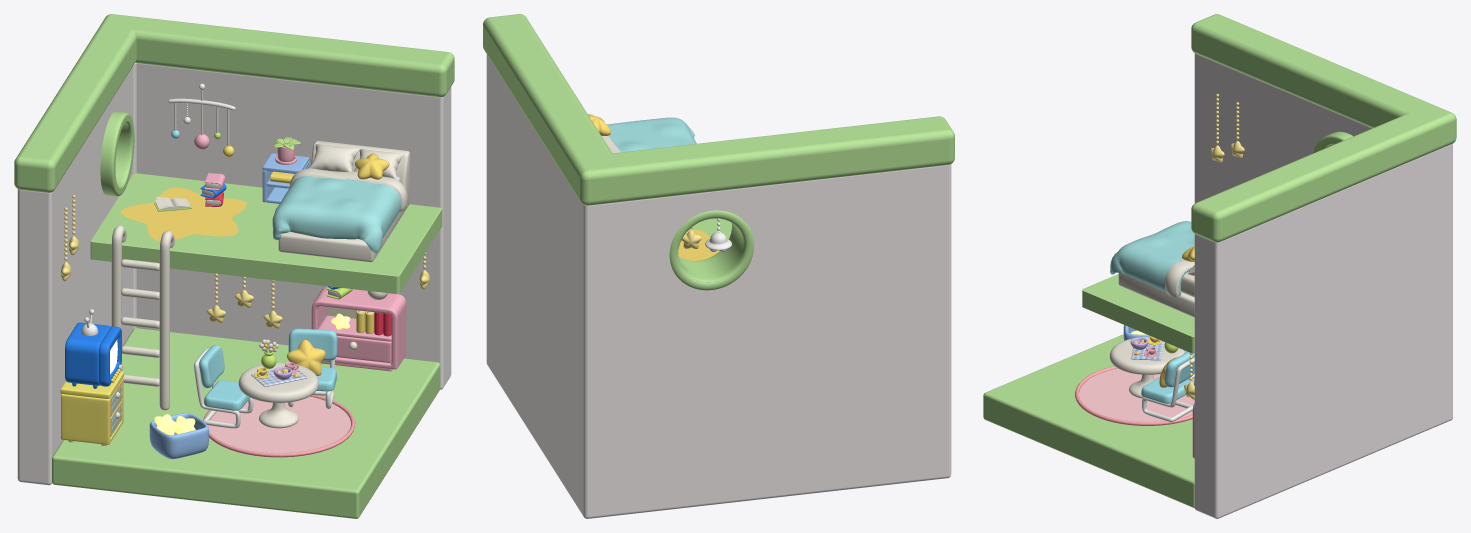
The model's file is tableset_compressed.glb.
3 views of the same model, side by side, from view 1: azimuth 30°, elevation 25°; view 2: azimuth 150°, elevation 25°; view 3: azimuth 270°, elevation 25° (orthographic). The views are drawn at different scales.
Visible parts, largest first — view 1: Cube.004, Cube.003, Cube.001, Cube.002, Plane.003, bookshelf, rug, Torus.002, Circle, TV_body, table, Windows_Frame (+17 smaller); view 2: Cube.004, Cube.001, Windows_Frame, Plane.003, Circle; view 3: Cube.004, Cube.001, Cube.003, Cube.002, Plane.003, rug, table, Cube.009, chair_pipe, rug_edge, chair_seat, chair_back (+1 smaller).
Boxes of the visible parts, x1,y1,x2,y2 form: Cube.004: (17, 63, 451, 485); Cube.003: (52, 328, 440, 518); Cube.001: (14, 14, 454, 192); Cube.002: (90, 173, 442, 293); Plane.003: (272, 176, 400, 253); bookshelf: (311, 286, 406, 371); rug: (207, 396, 350, 453); Torus.002: (111, 225, 174, 410); Circle: (120, 187, 246, 240); TV_body: (65, 322, 121, 386); table: (238, 363, 318, 428); Windows_Frame: (100, 111, 134, 196); Cube.004: (486, 54, 951, 518); Cube.001: (483, 14, 954, 205); Windows_Frame: (669, 210, 754, 290); Plane.003: (607, 117, 696, 152); Circle: (678, 229, 719, 260); Cube.004: (1194, 53, 1452, 518); Cube.001: (1191, 14, 1456, 242); Cube.003: (983, 334, 1194, 508); Cube.002: (1082, 274, 1194, 353); Plane.003: (1110, 221, 1194, 295); rug: (1079, 368, 1194, 421); table: (1109, 337, 1184, 398); Cube.009: (1118, 272, 1194, 317); chair_pipe: (1142, 357, 1194, 422); rug_edge: (1075, 366, 1192, 425); chair_seat: (1141, 377, 1192, 403); chair_back: (1164, 351, 1194, 387).
Bounding box in the file's own units: 3.12 × 2.21 × 3.08.
